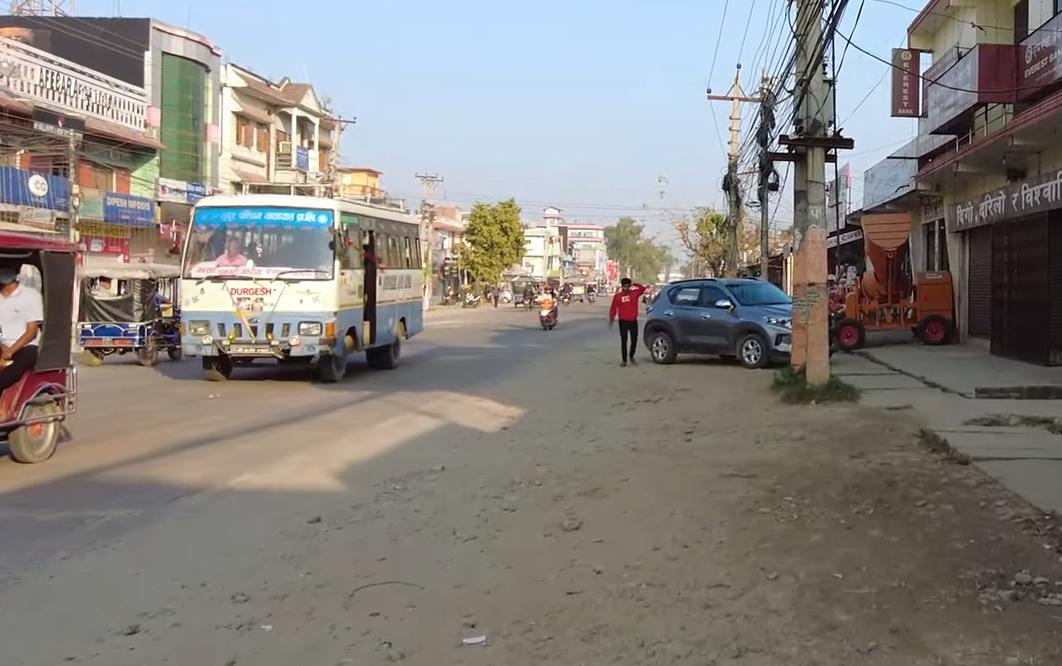bus: (174, 183, 435, 383)
